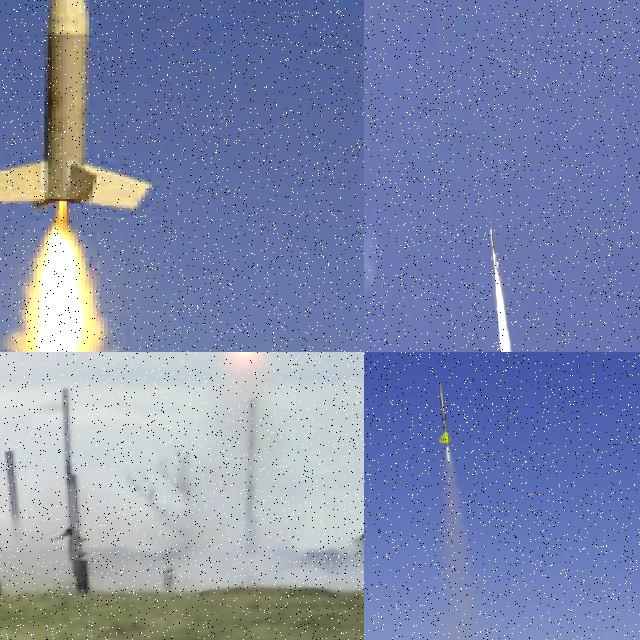Rocket: (0, 0, 161, 217), (438, 383, 453, 445), (490, 229, 499, 271)
